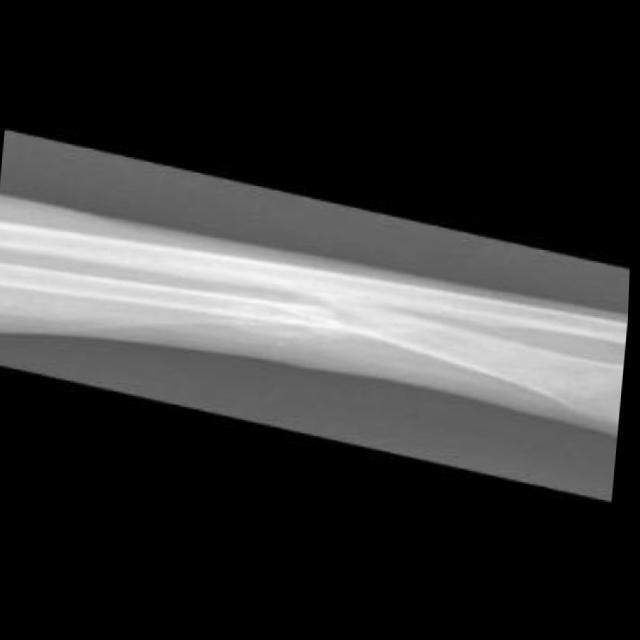fracture: (272, 293, 409, 344)
